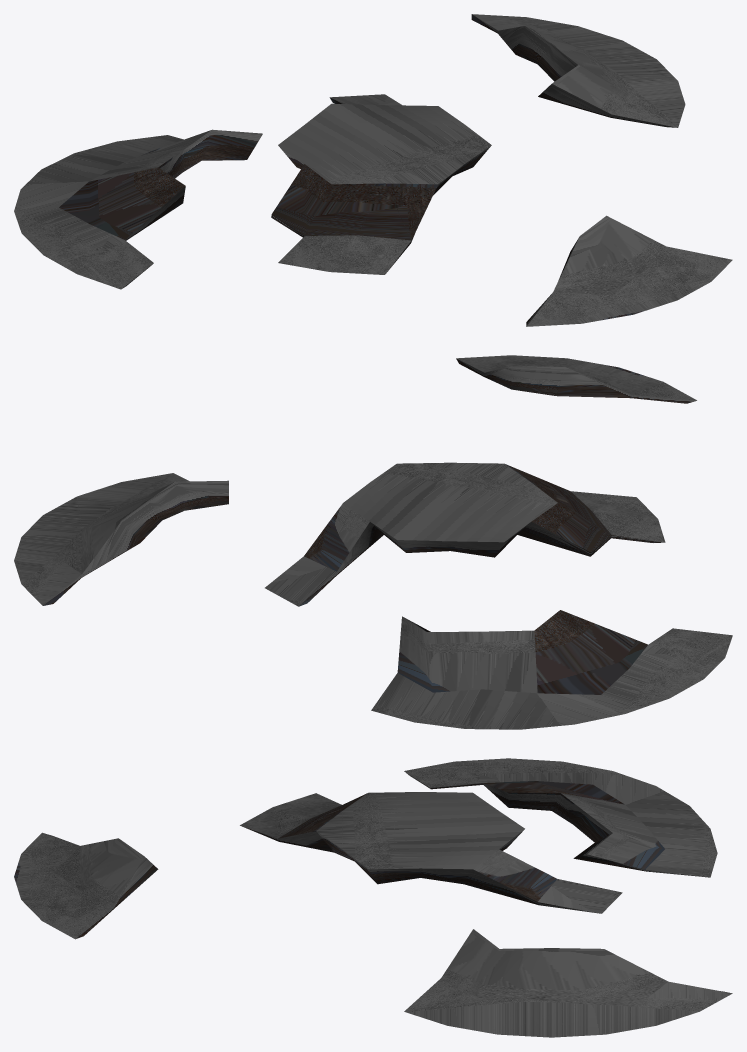
Rendered from Broken Plate.fbx.
3 views of the same model, one above another, from view 1: azimuth 30°, elevation 25°; view 2: azimuth 150°, elevation 25°; view 3: azimuth 270°, elevation 25° (orthographic). The views are drawn at different scales.
Parts seen in each view (by area): view 1: Broken_Plate, Broken_Plate1, Broken_Plate3, Broken_Plate2; view 2: Broken_Plate1, Broken_Plate, Broken_Plate3, Broken_Plate2; view 3: Broken_Plate, Broken_Plate3, Broken_Plate1, Broken_Plate2.
Part boxes in pixels (left/top/right/bottom): Broken_Plate: left=271, top=94, right=491, bottom=274; Broken_Plate1: left=14, top=129, right=262, bottom=289; Broken_Plate3: left=471, top=14, right=685, bottom=127; Broken_Plate2: left=526, top=215, right=732, bottom=326; Broken_Plate1: left=371, top=610, right=732, bottom=729; Broken_Plate: left=265, top=462, right=665, bottom=606; Broken_Plate3: left=14, top=473, right=228, bottom=605; Broken_Plate2: left=456, top=355, right=696, bottom=403; Broken_Plate: left=240, top=792, right=622, bottom=913; Broken_Plate3: left=404, top=929, right=732, bottom=1037; Broken_Plate1: left=404, top=758, right=717, bottom=877; Broken_Plate2: left=14, top=832, right=158, bottom=939.
Size of the model in its own units: 56.08 by 8 by 56.18.
